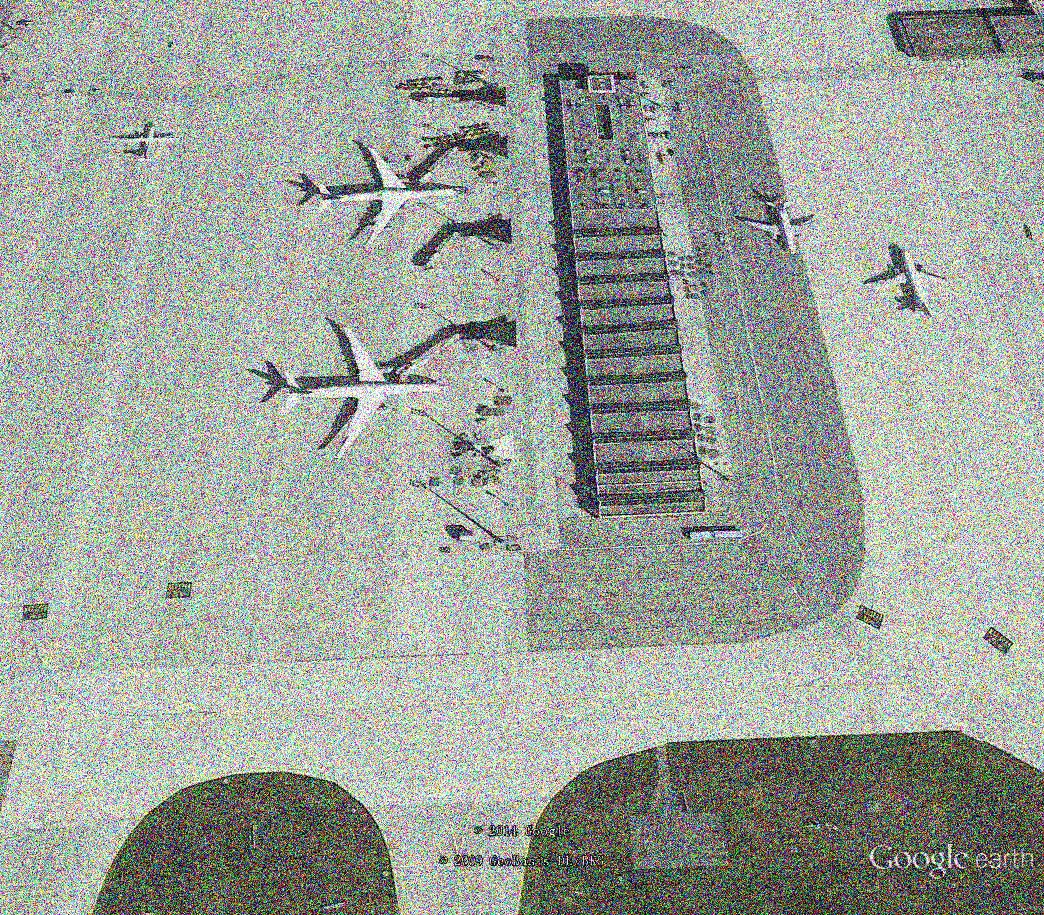aircraft: (271, 319, 456, 466), (306, 142, 471, 252), (867, 247, 967, 327), (733, 195, 823, 261), (115, 121, 184, 165)
